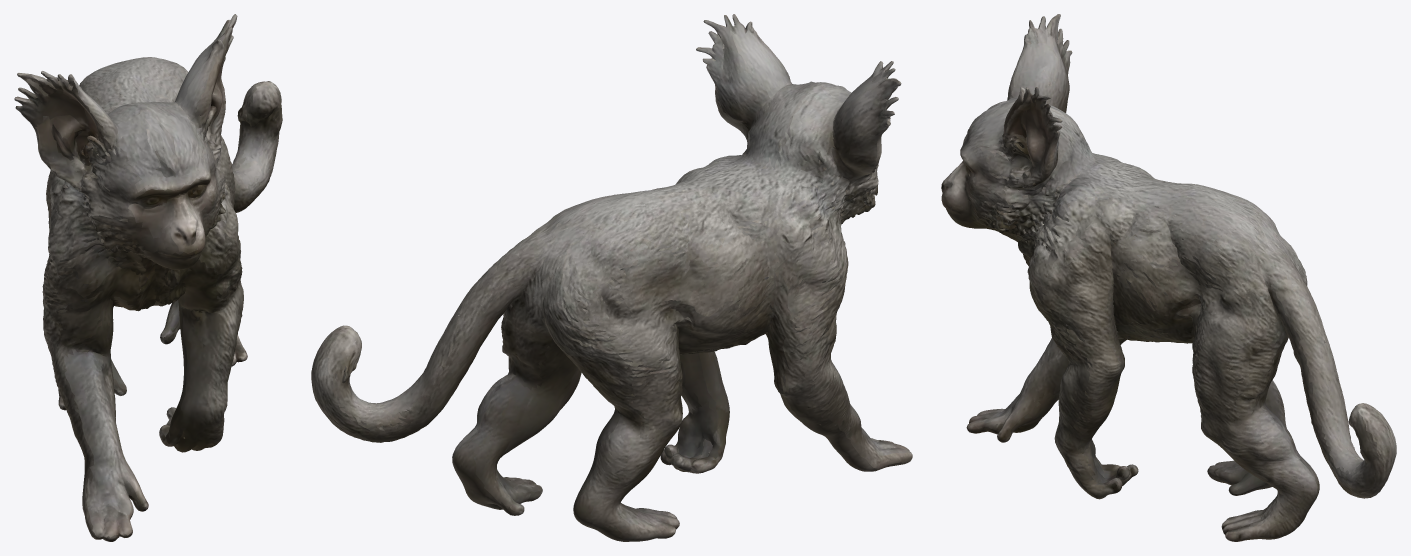
Rendered from jufu.glb.
The picture shows the model from 3 angles, left to right: view 1: azimuth 30°, elevation 25°; view 2: azimuth 150°, elevation 25°; view 3: azimuth 270°, elevation 25°; orthographic projection. The views are drawn at different scales.
Parts seen in each view (by area): view 1: geometry_0; view 2: geometry_0; view 3: geometry_0.
Part boxes in pixels (x1,y1,x2,y2): geometry_0: (14,14,282,541); geometry_0: (311,14,912,541); geometry_0: (941,14,1396,541).
Bounding box in the file's own units: 0.45 × 0.4469 × 0.4516.
1 material, 1 textured.
